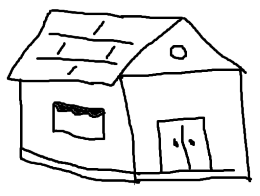big_house: (0, 0, 259, 193)
door: (149, 112, 217, 177)
open_window: (40, 98, 109, 143)
roof: (5, 7, 251, 88)
wall: (119, 63, 255, 187)
